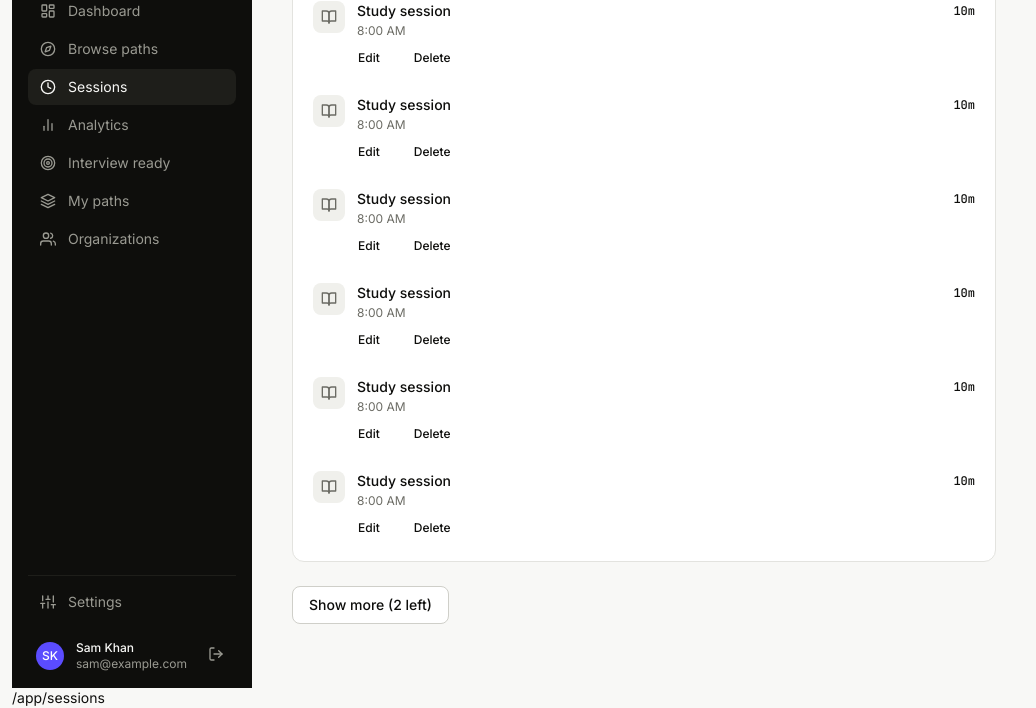
Scenario: SessionsPage › history › loads older sessions a page at a time, and retries a page that failed
The width and height of the screenshot is (1036, 708).
(page scrolled)
Click the button "Show more (2 left)".
click(370, 605)  # box [292,586,449,624]
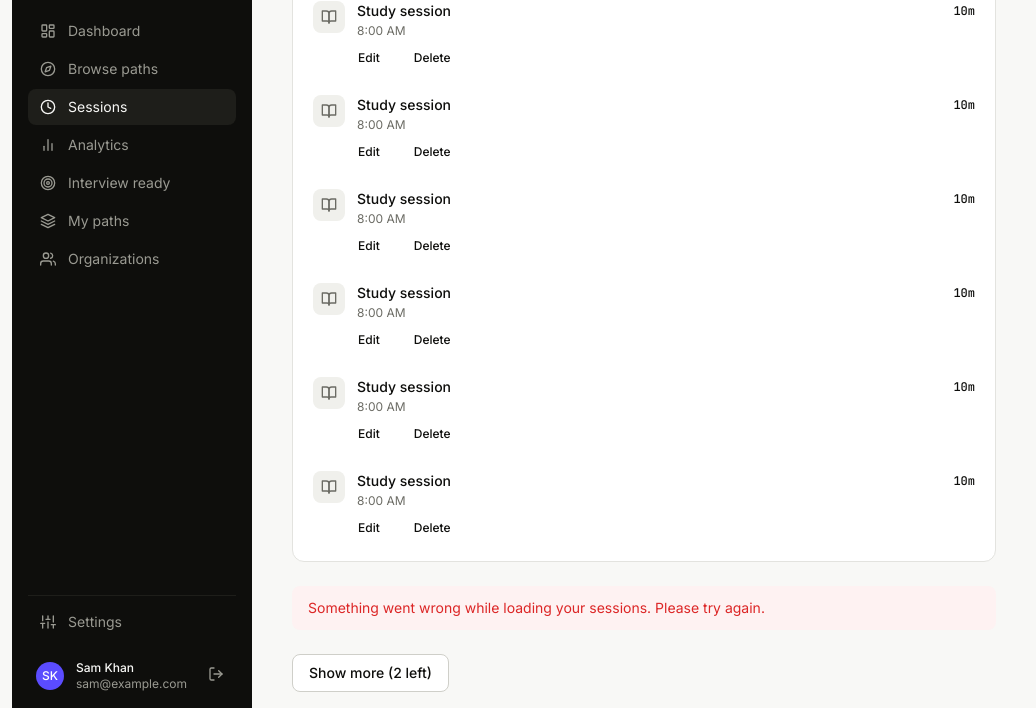
Check: the message shows "Something went wrong while loading your sessions.", box [308,599,765,616]
Click the button "Show more (2 left)".
click(370, 673)  # box [292,654,449,692]
(page scrolled)
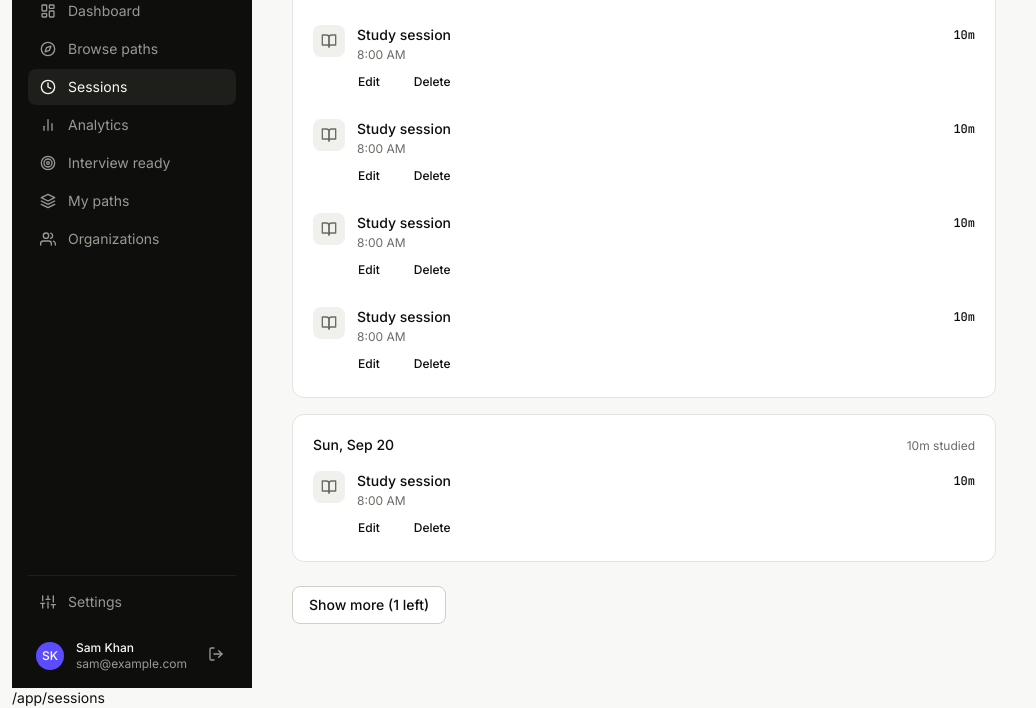
Check: the button "Show more (1 left)" is enabled, box [292,586,446,624]
Check: the element "Sun, Sep 20" is shown, box [292,414,996,562]
Check: the message "Something went wrong while loading your sessions. Please try again." is gone
